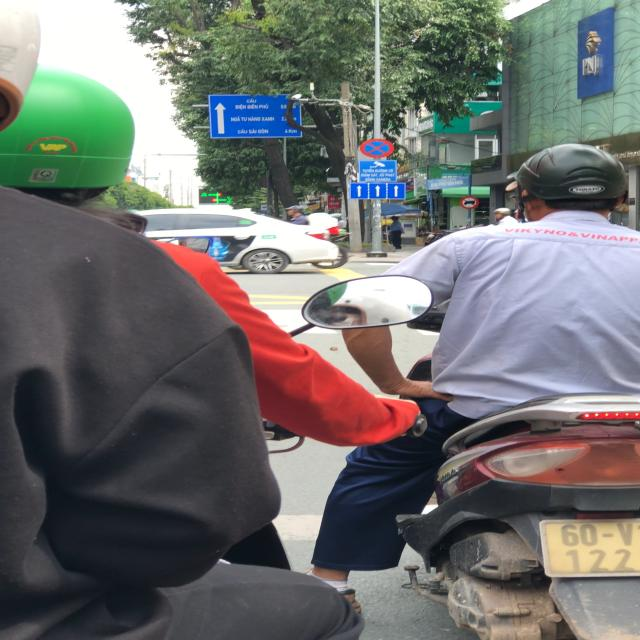Bien bao cam dung xe va do xe: (355, 135, 396, 160)
